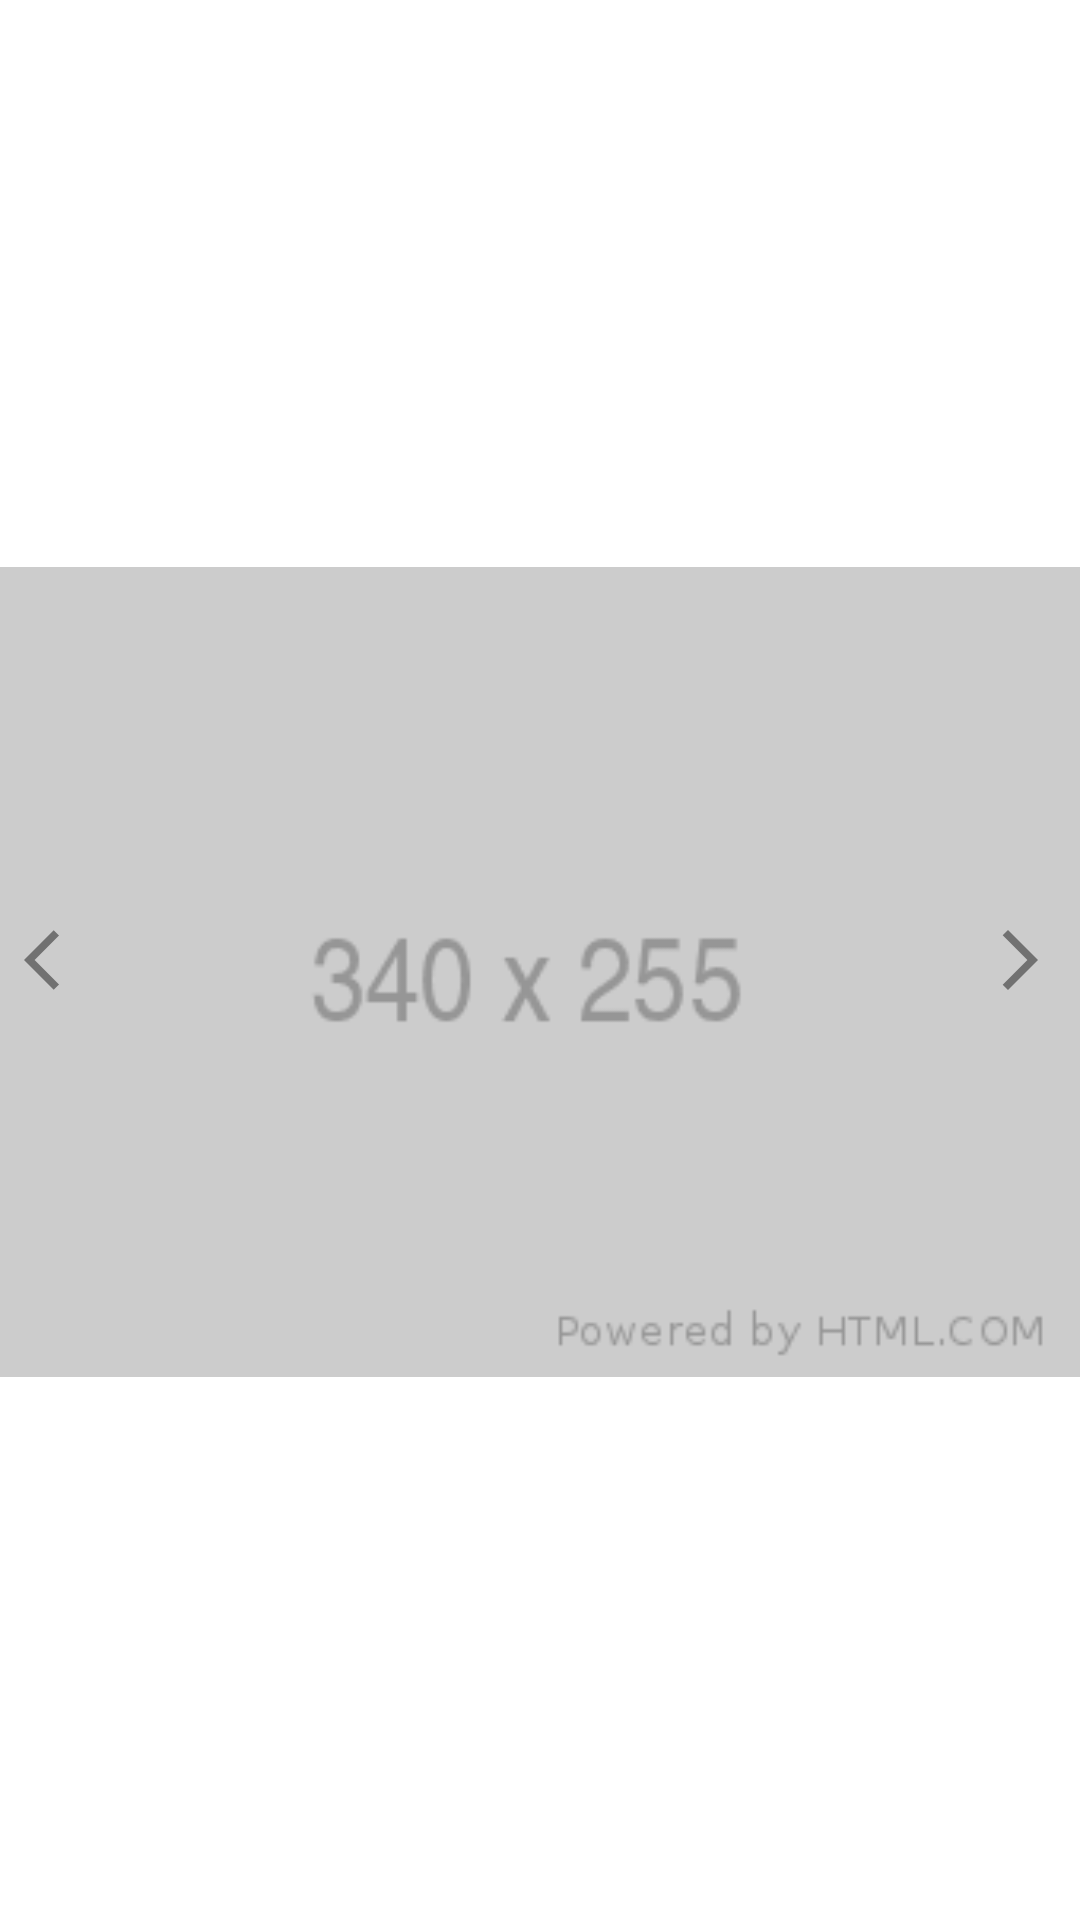

Named icons in this screenshot (1080*1920) and their bounding boxes, (x1, y1, x2, y2):
arrow left: (24, 930, 59, 990)
arrow right: (1003, 930, 1038, 990)
